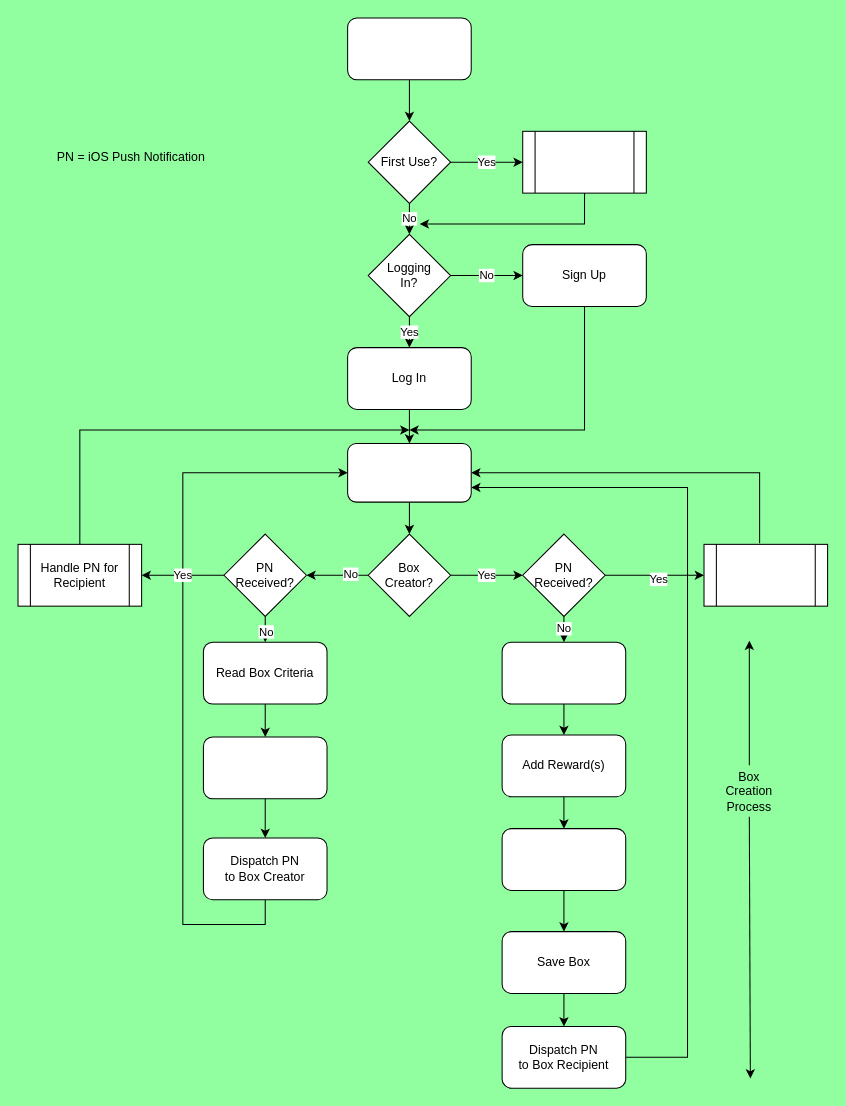
Image size: 846x1106. Some labels were removed from this diagram. Here are the shapes that lost their labels. From the top down, the box of each, then its label:
(347, 17, 471, 80): Load Launch Screen
(522, 130, 646, 193): Onboarding
(347, 442, 471, 502): Home Screen
(703, 543, 828, 606): Handle PN for Creator
(501, 641, 626, 704): Assemble Recipients Info
(202, 736, 327, 799): Mark Criteria Satisfied
(501, 828, 626, 890): Add Criterion(ia)
